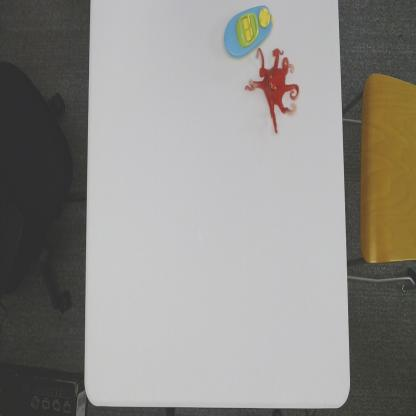Boat: (223, 4, 275, 59)
Octopus: (244, 45, 300, 136)
